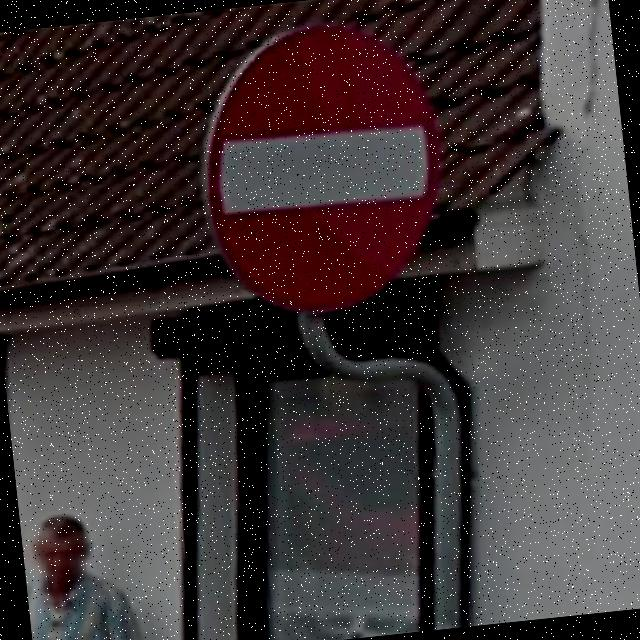Zakaz wjazdu: (188, 14, 454, 326)
